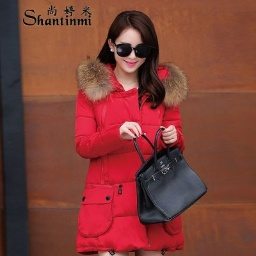face: (99, 11, 166, 95)
